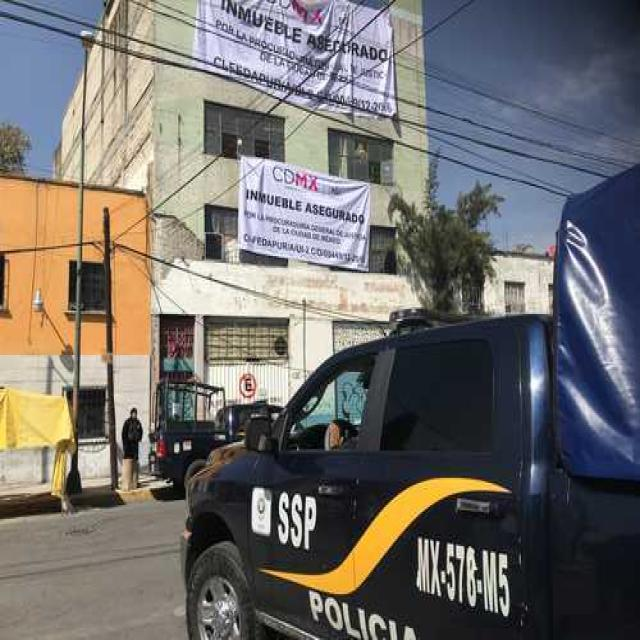stamps: (195, 1, 398, 116), (239, 157, 368, 271)
